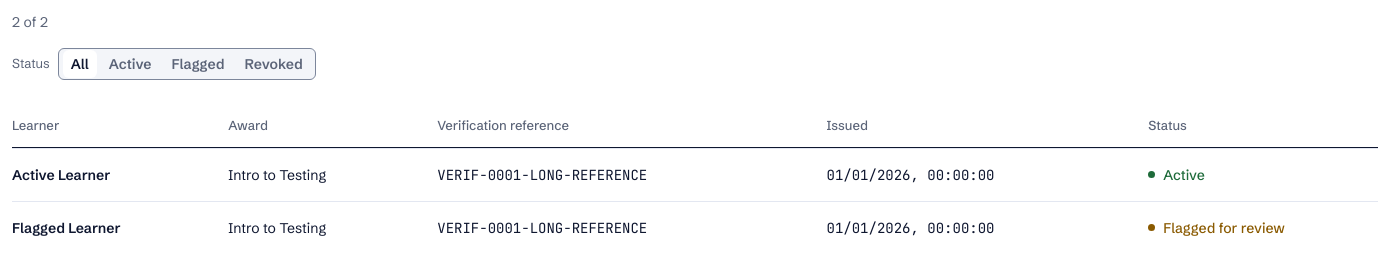
IssuedCertificatesTable — filter (UI-SPEC §6.1) › renders the four segmented filter options and 'Active' excludes flagged rows
The image size is (1390, 253).
Expected: the button "All" is shown, [63,50,97,78]
Expected: the button "Flagged" is shown, [164,50,232,78]
Click the button "Active" at (130, 64), box [101,50,160,78]
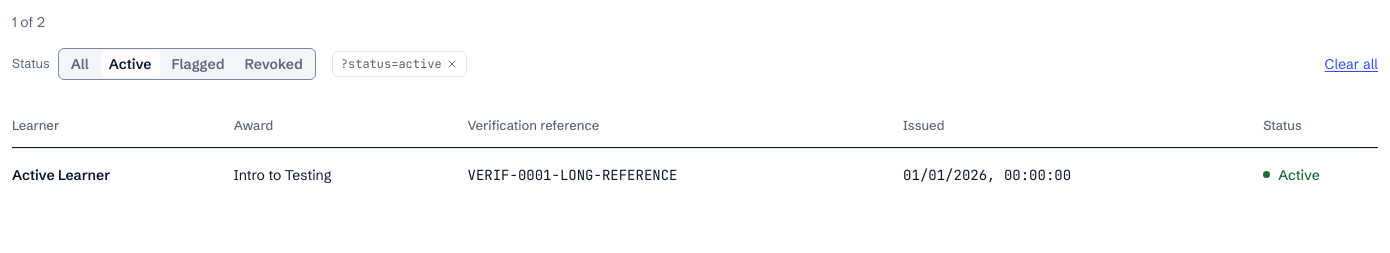
Expected: the link "Active Learner" is shown, [12,165,110,185]
Result: the link "Flagged Learner" is gone
